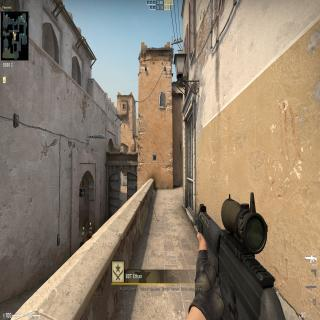T-Head: (81, 232, 86, 240), (88, 227, 92, 233)
